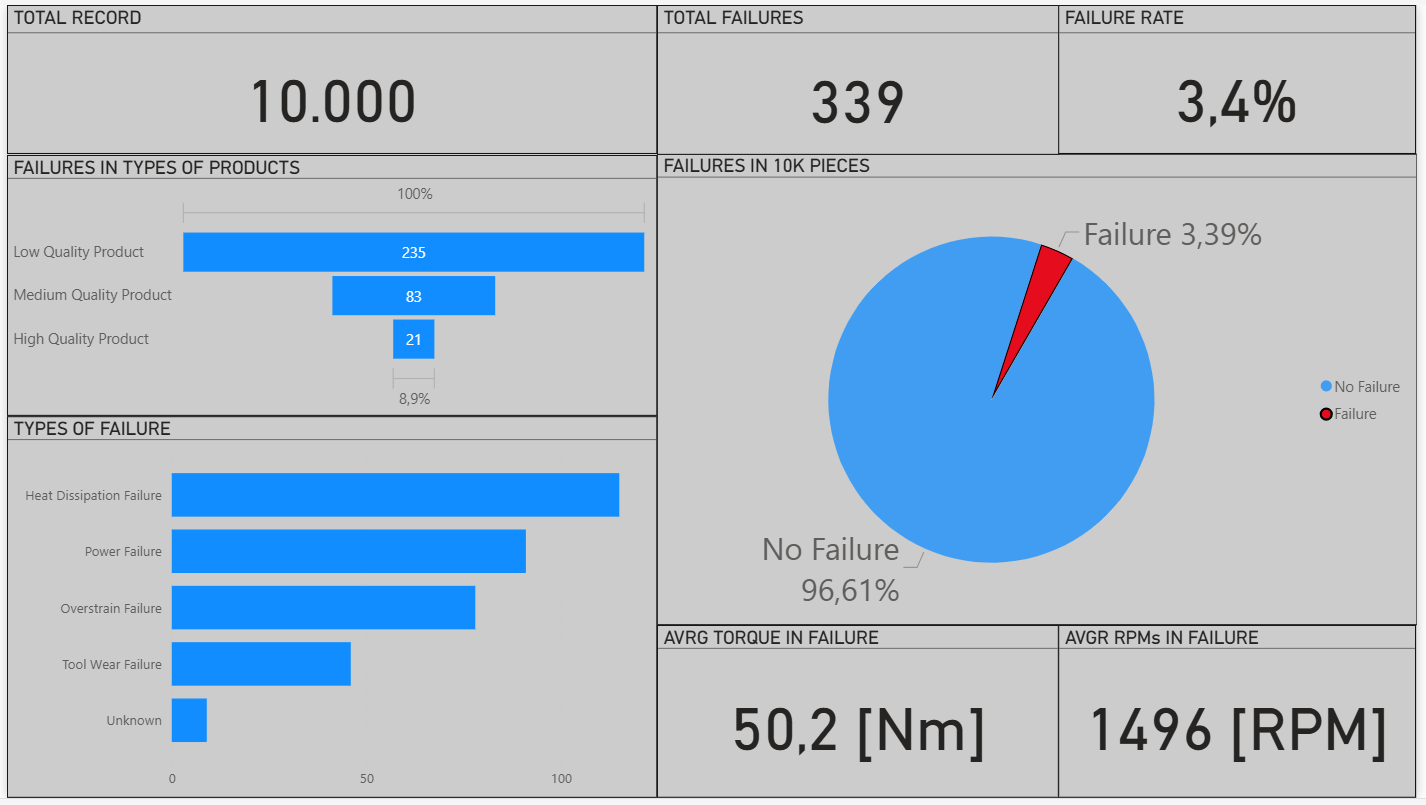

Layout of this report page (visuals, bound fields, positions):
{"tool":"powerbi","page":{"name":"Página 1","canvas":[1280,720],"ordinal":0},"visuals":[{"type":"pieChart","title":"FAILURES IN 10K PIECES","fields":{"Category":["maintenance predictive_maintenance.failure_flag"],"Y":["CountNonNull(maintenance predictive_maintenance.failure_flag)"]},"box":[590,135,690,428.3],"z":0},{"type":"barChart","title":"TYPES OF FAILURE","fields":{"Category":["maintenance predictive_maintenance.failure_label"],"Y":["CountNonNull(maintenance predictive_maintenance.failure_label)"]},"box":[0,373.3,590,346.7],"z":1000},{"type":"funnel","title":"FAILURES IN TYPES OF PRODUCTS","fields":{"Category":["ref_product_type.description"],"Y":["maintenance predictive_maintenance.Total Failures"]},"box":[0,135.7,590,237.1],"z":2000},{"type":"card","title":"TOTAL RECORD","fields":{"Values":["maintenance predictive_maintenance.Total Records"]},"box":[0,0,590,135],"z":3000},{"type":"card","title":"TOTAL FAILURES","fields":{"Values":["maintenance predictive_maintenance.Total Failures"]},"box":[590,0,365.7,135.7],"z":4000},{"type":"card","title":"FAILURE RATE","fields":{"Values":["maintenance predictive_maintenance.Failure Rate %"]},"box":[955,0,325,135],"z":5000},{"type":"card","title":"AVRG TORQUE IN FAILURE","fields":{"Values":["maintenance predictive_maintenance.Avg Torque on Failure"]},"box":[590,563.3,365,156.7],"z":6000},{"type":"card","title":"AVGR RPMs IN FAILURE","fields":{"Values":["maintenance predictive_maintenance.Avg RPMs on Failure"]},"box":[955,563.3,325,156.7],"z":7000}]}

Visuals, with their boxes in screenshot pixels (x1, y1, x2, y2), scaled from the page's 1280x720 canvas onto the 1426x805 screenshot:
"FAILURES IN 10K PIECES" pieChart: bbox=[657, 151, 1425, 630]
"TYPES OF FAILURE" barChart: bbox=[0, 417, 657, 804]
"FAILURES IN TYPES OF PRODUCTS" funnel: bbox=[0, 152, 657, 417]
"TOTAL RECORD" card: bbox=[0, 0, 657, 151]
"TOTAL FAILURES" card: bbox=[657, 0, 1065, 152]
"FAILURE RATE" card: bbox=[1064, 0, 1425, 151]
"AVRG TORQUE IN FAILURE" card: bbox=[657, 630, 1064, 804]
"AVGR RPMs IN FAILURE" card: bbox=[1064, 630, 1425, 804]
